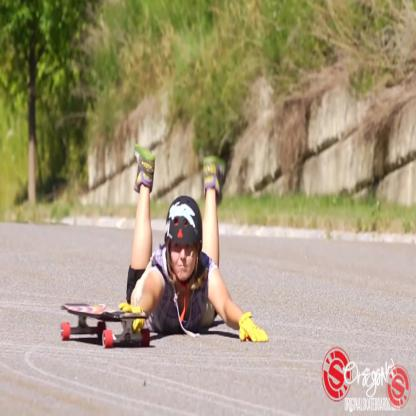Fall_Down: (116, 142, 273, 350)
